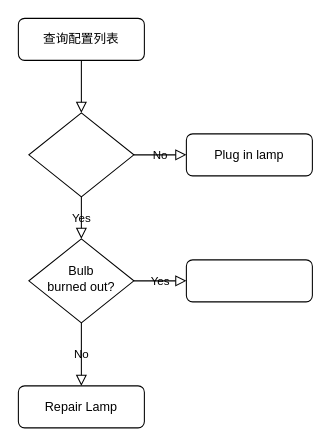
Image size: 331x446. Some labels were removed from this diagram. The centre of each missing label's shape, as x and y in pixels:
Lamp plugged in?: [81,154]
Replace Bulb: [248,280]
